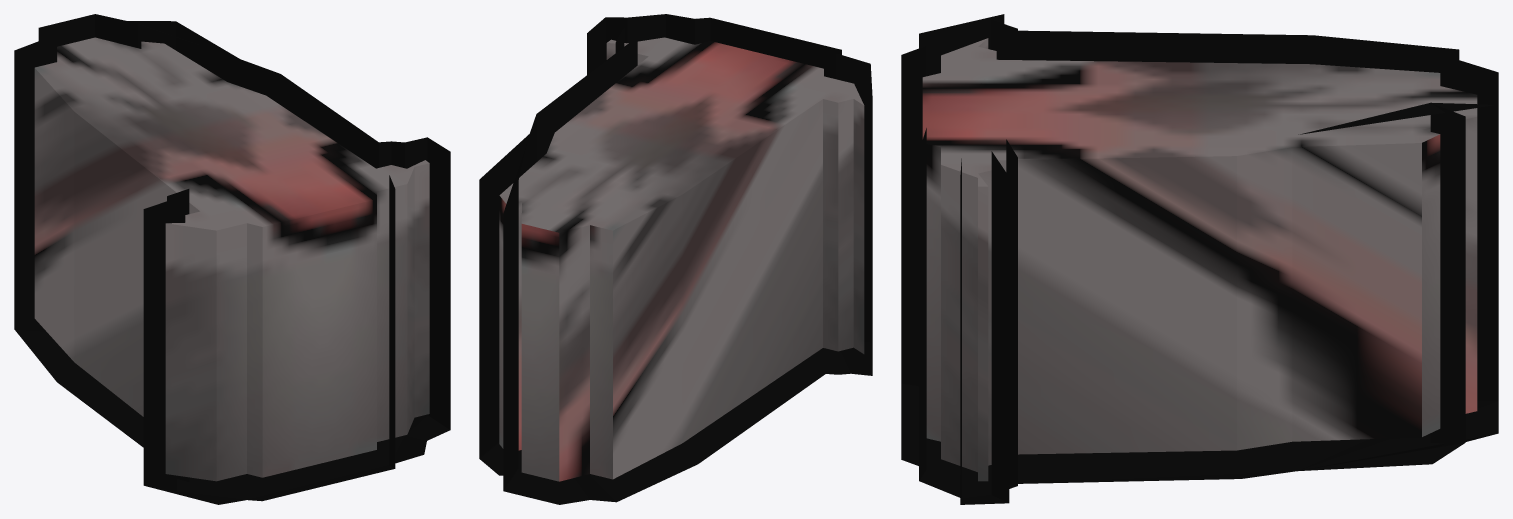
Rendered from Building_VoidSculpture_Things_Building_VoidSculpture_VoidSculptureF.glb.
3 renders of one model, left to right at view 1: azimuth 30°, elevation 25°; view 2: azimuth 150°, elevation 25°; view 3: azimuth 270°, elevation 25°, orthographic. The views are drawn at different scales.
Visible parts, largest first — view 1: Body, Outline; view 2: Body, Outline; view 3: Body, Outline.
Boxes of the visible parts, left/top/right/bottom form: Body: left=34, top=37, right=429, bottom=481; Outline: left=14, top=14, right=450, bottom=504; Body: left=499, top=37, right=864, bottom=481; Outline: left=479, top=14, right=872, bottom=504; Body: left=922, top=38, right=1477, bottom=481; Outline: left=901, top=14, right=1498, bottom=504.
Size of the model in its own units: 0.5895 by 0.5803 by 0.9012.
Materials: 2 (1 with a texture image).
